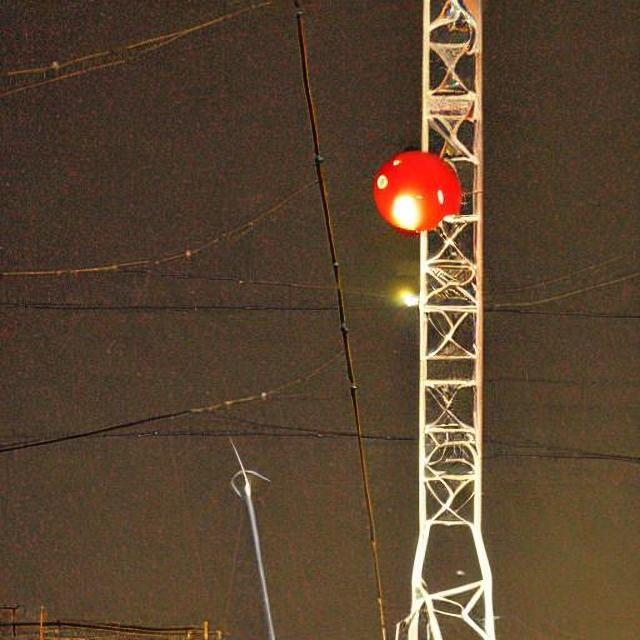balloon: (367, 146, 462, 234)
